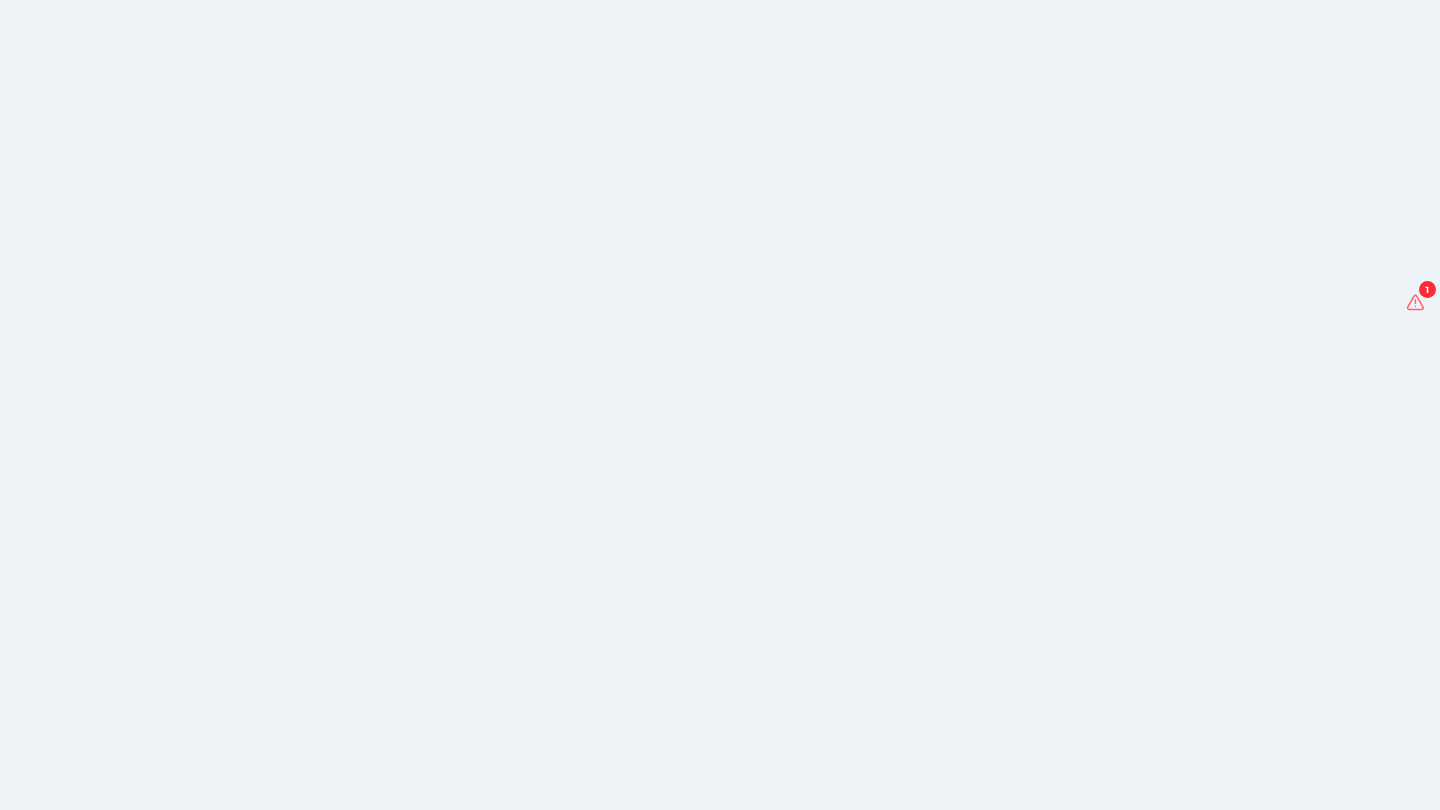
Test case: AlertsFloatingIcon — barra vertical direita (desktop) e botão flutuante (mobile) › painel aberto pausa o pulso (mantém cor e badge)
Check: the icon with class "lucide-triangle-alert" is shown, box [1406, 292, 1425, 311]
Step 1. Click the button named "Alertas" → (1415, 302), box [1398, 285, 1432, 319]
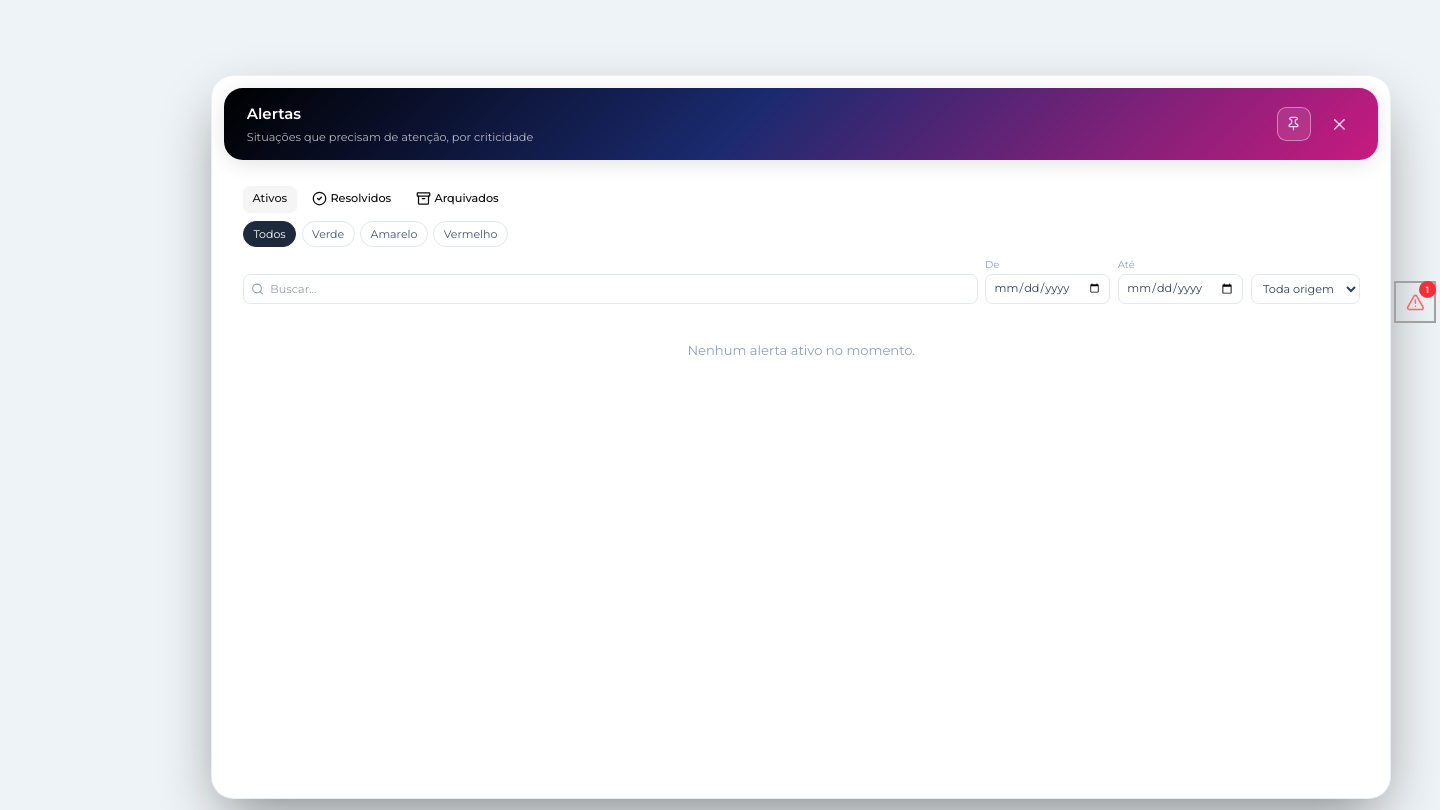
Check: the icon with class "lucide-triangle-alert" is shown, box [1406, 292, 1425, 311]
Check: the heading "Alertas" is shown, box [247, 104, 301, 123]
